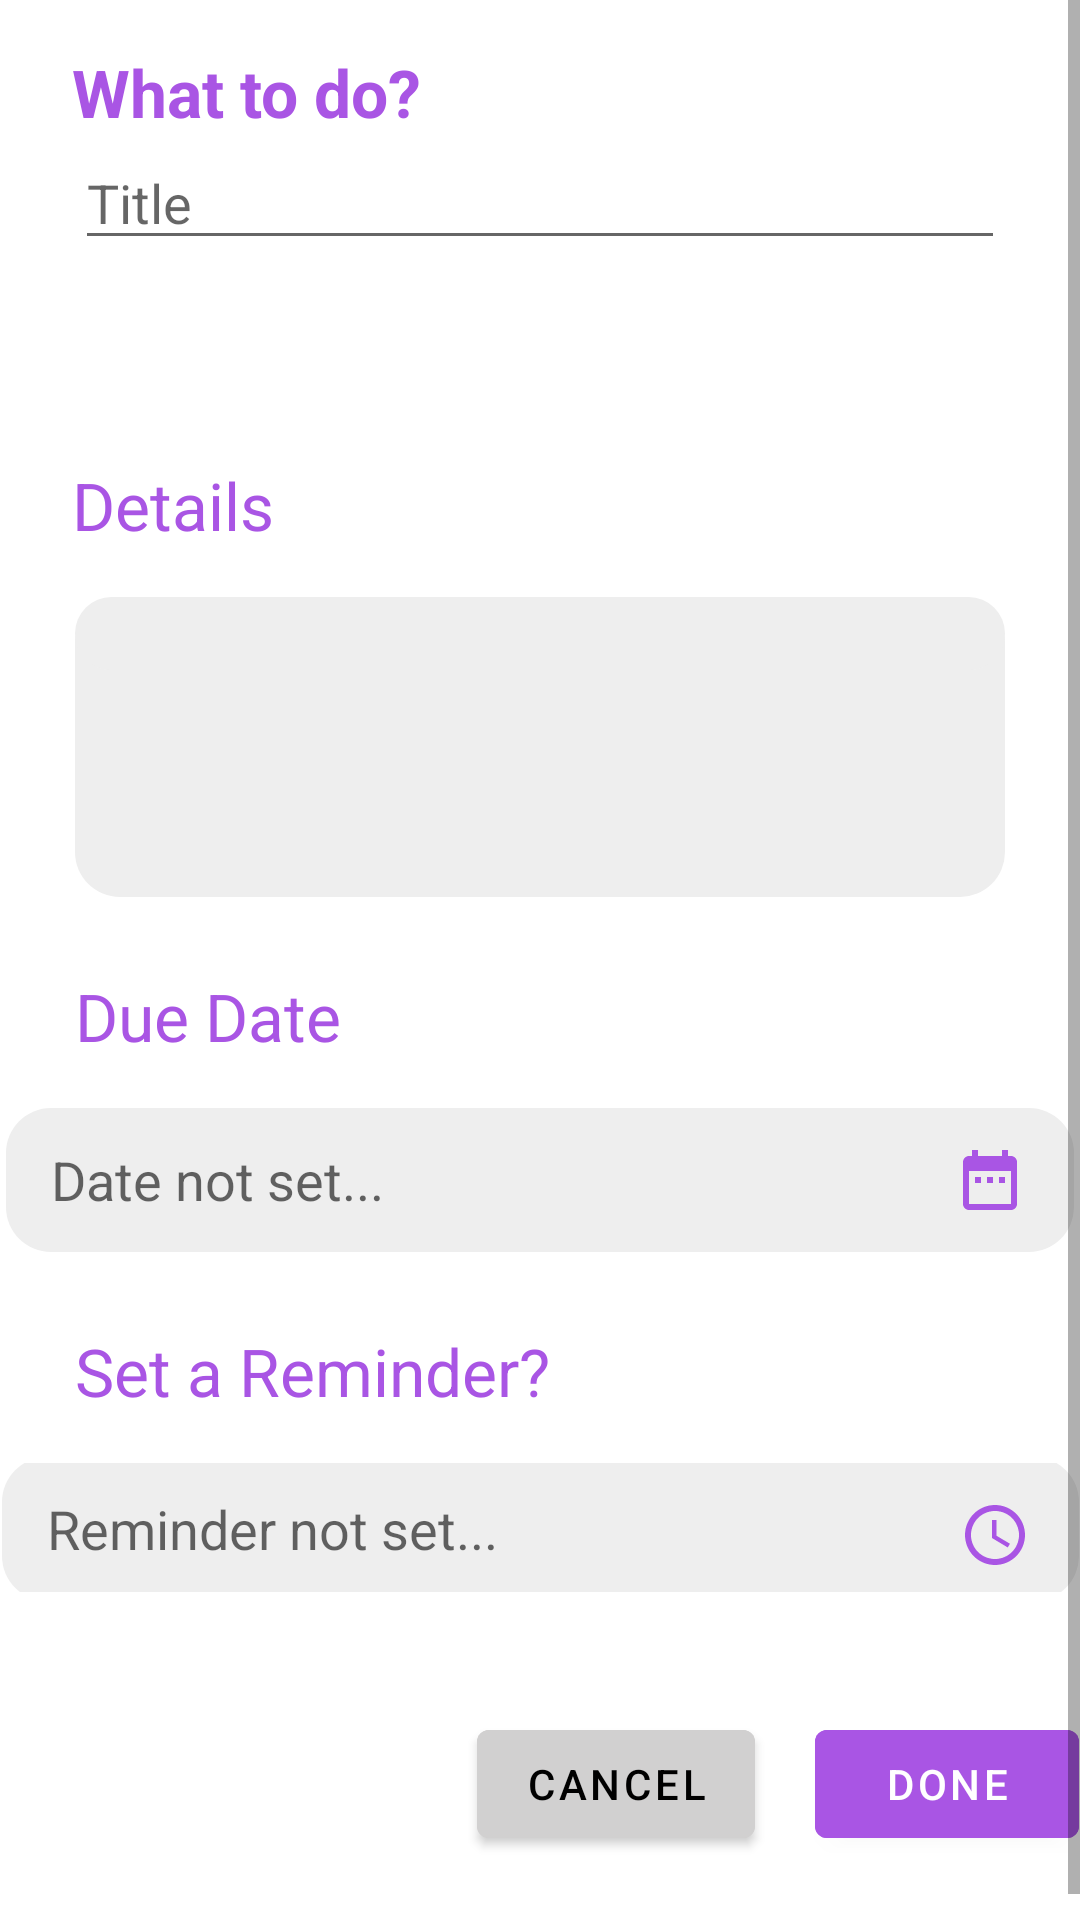

Named icons in this screenshot (1080w x 1920h) and their bounding boxes, bbox=(x1, y1, x2, y2):
date range: bbox=(963, 1150, 1017, 1210)
